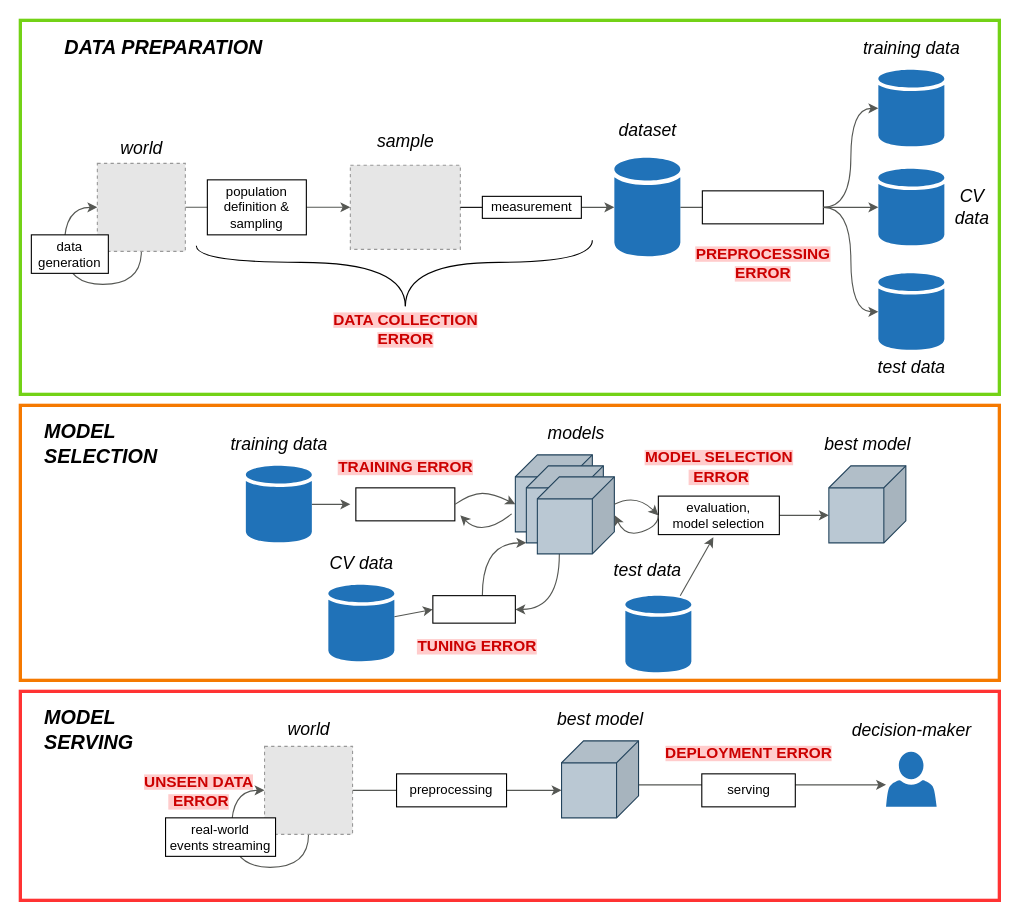
Image size: 1020x921. Some labels were removed from this diagram. Grey dashed boxes stand in for pictures. Each missing label, with the centre of its shape:
"model learning" goes at [405,504].
"preprocessing, train/cv/test split" goes at [762,207].
"tuning" goes at [473,609].
